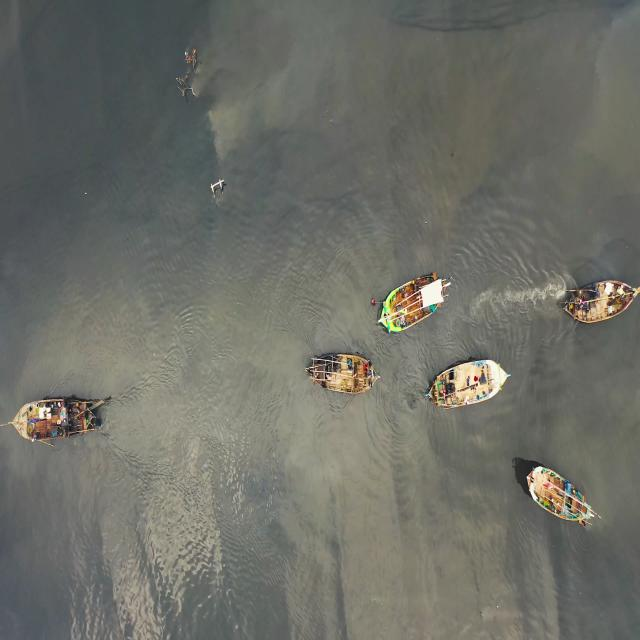ship: (521, 460, 604, 536), (9, 384, 104, 446), (376, 261, 451, 338), (431, 355, 516, 408), (562, 271, 636, 321), (306, 349, 382, 396)
